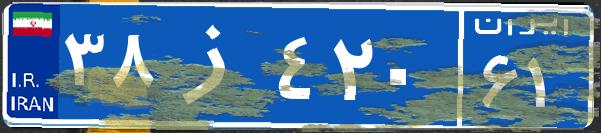0: (385, 28, 445, 110)
1: (525, 38, 570, 115)
2: (330, 28, 385, 110)
3: (57, 26, 110, 107)
4: (273, 28, 330, 110)
6: (475, 38, 525, 113)
8: (110, 28, 158, 105)
ز: (158, 15, 273, 115)
